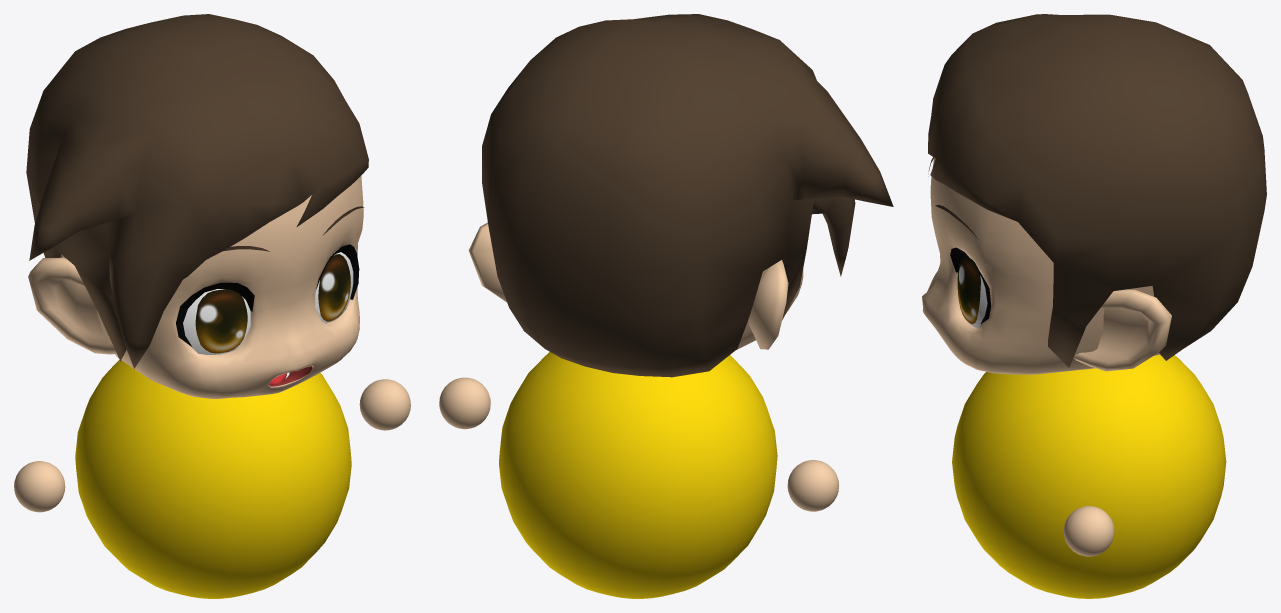
The model's file is kid.glb.
3 views of the same model, side by side, from view 1: azimuth 30°, elevation 25°; view 2: azimuth 150°, elevation 25°; view 3: azimuth 270°, elevation 25° (orthographic).
Parts seen in each view (by area): view 1: zizo_kid.hair.001, zizo_kid.001, zizo_kid.skin, zizo_kid, left.skin.hand, right.skin.hand; view 2: zizo_kid.hair.001, zizo_kid.001, zizo_kid.skin, right.skin.hand, left.skin.hand; view 3: zizo_kid.hair.001, zizo_kid.001, zizo_kid.skin, right.skin.hand, zizo_kid.
Boxes of the visible parts, x1,y1,x2,y2 form: zizo_kid.hair.001: [26, 14, 368, 368]; zizo_kid.001: [75, 244, 359, 598]; zizo_kid.skin: [28, 176, 363, 398]; zizo_kid: [195, 254, 350, 353]; left.skin.hand: [14, 461, 65, 512]; right.skin.hand: [359, 379, 410, 430]; zizo_kid.hair.001: [482, 14, 893, 377]; zizo_kid.001: [499, 352, 777, 598]; zizo_kid.skin: [468, 222, 803, 349]; right.skin.hand: [439, 377, 490, 429]; left.skin.hand: [787, 460, 839, 511]; zizo_kid.hair.001: [928, 14, 1266, 367]; zizo_kid.001: [950, 247, 1226, 598]; zizo_kid.skin: [922, 158, 1171, 374]; right.skin.hand: [1063, 506, 1114, 556]; zizo_kid: [957, 257, 980, 323].
Size of the model in its own units: 0.2789 by 0.3553 by 0.2038.
Materials: 2 (2 with a texture image).
